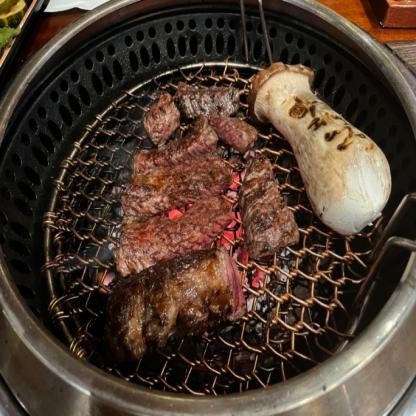Carne: (115, 250, 243, 360), (107, 196, 237, 278), (231, 145, 300, 262), (116, 147, 232, 214), (127, 133, 214, 170), (169, 86, 234, 120), (141, 91, 174, 143), (211, 116, 255, 144)
